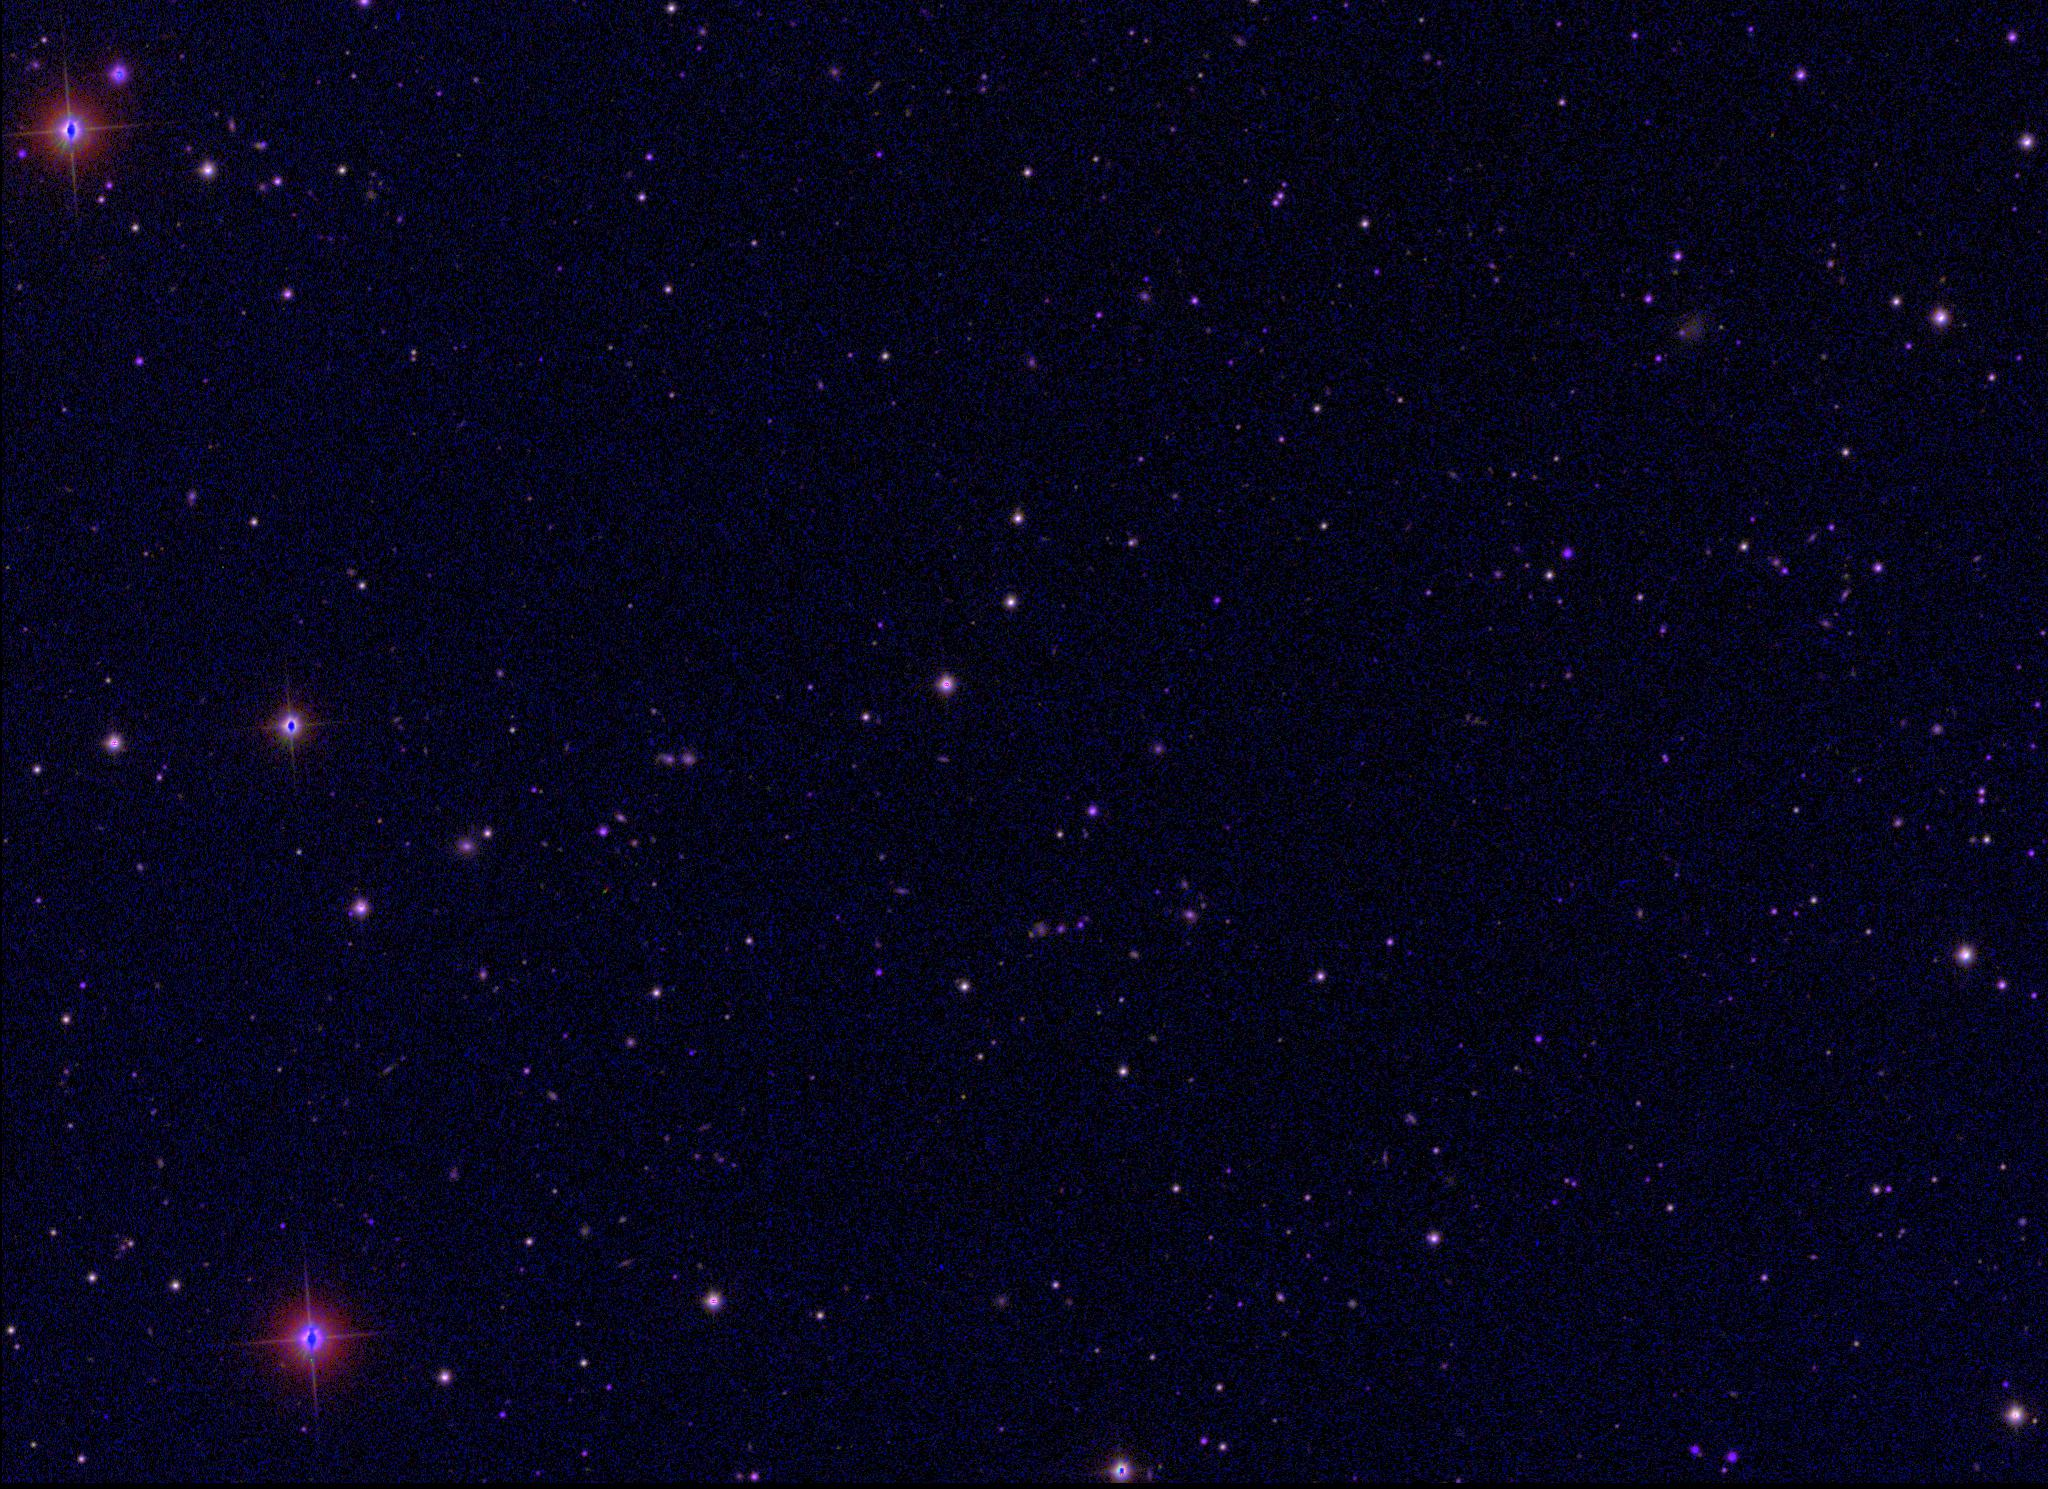L: (99, 1409, 113, 1424)
